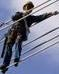boots: (14, 57, 19, 65), (1, 0, 1, 0)
hard-hat: (23, 1, 34, 10)
ppe-suit: (0, 10, 53, 68)
